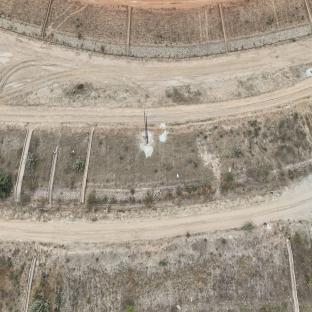rock_toe: (88, 158, 312, 207), (229, 23, 312, 51), (45, 29, 126, 56), (130, 40, 226, 58), (0, 18, 40, 37), (54, 190, 81, 205), (21, 189, 48, 203)
slope_drain: (14, 128, 33, 202), (80, 127, 94, 203), (286, 239, 299, 312), (24, 252, 37, 312), (48, 146, 58, 203), (218, 1, 229, 52), (41, 0, 52, 39), (126, 6, 132, 56)
vegetation: (0, 172, 14, 201)
